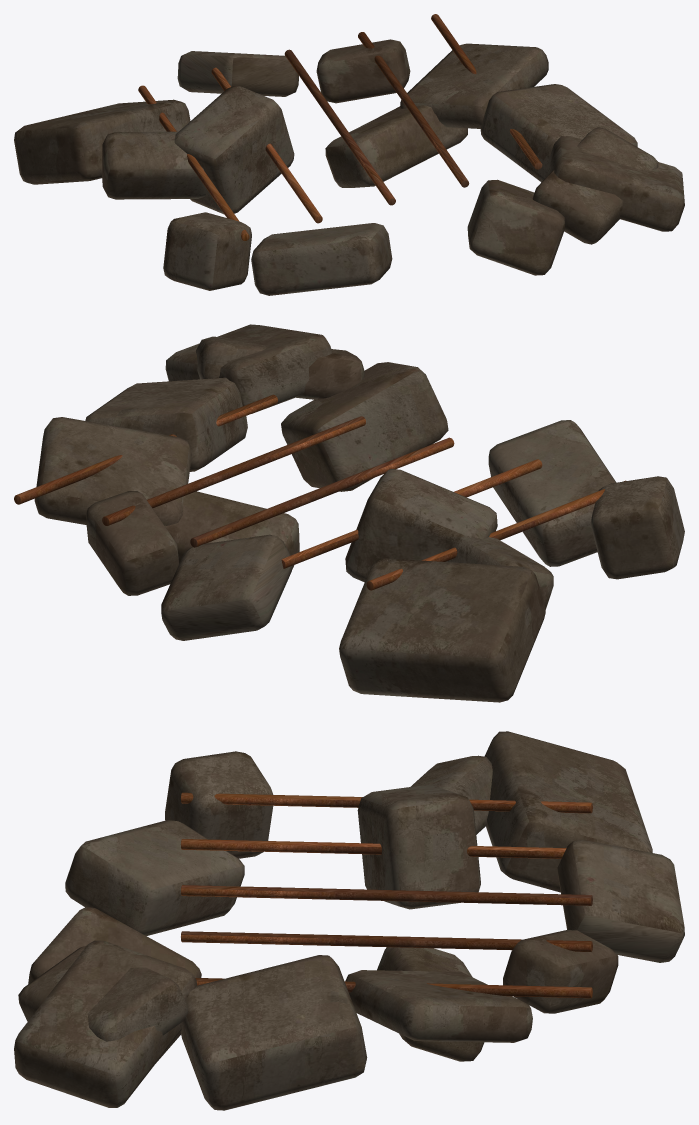
The model's file is industrial-rubble.glb.
3 views of the same model, one above another, from view 1: azimuth 30°, elevation 25°; view 2: azimuth 150°, elevation 25°; view 3: azimuth 270°, elevation 25° (orthographic). The views are drawn at different scales.
Visible parts, largest first — view 1: industrial-rubble; view 2: industrial-rubble; view 3: industrial-rubble.
Boxes of the visible parts, x1,y1,x2,y2 form: industrial-rubble: (14,14,684,295); industrial-rubble: (14,324,684,702); industrial-rubble: (14,731,684,1110).
Bounding box in the file's own units: 2.59 × 0.6657 × 2.45.
Materials: 2 (2 with a texture image).
